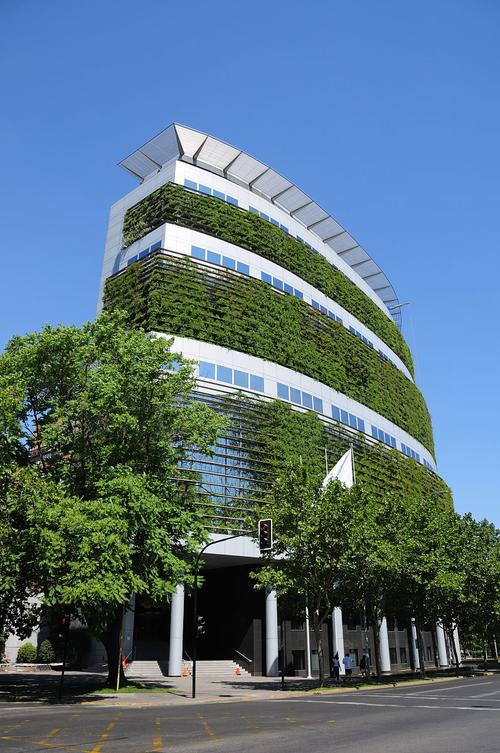buildings: (73, 144, 426, 398)
